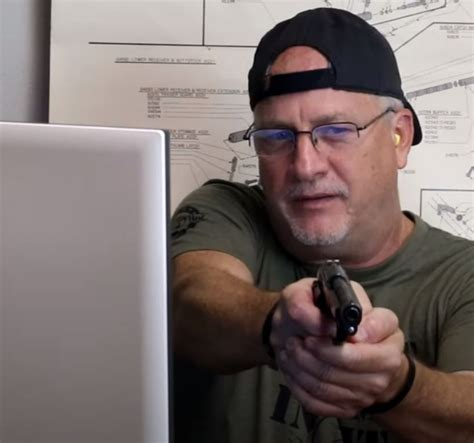gun: (311, 256, 364, 347)
